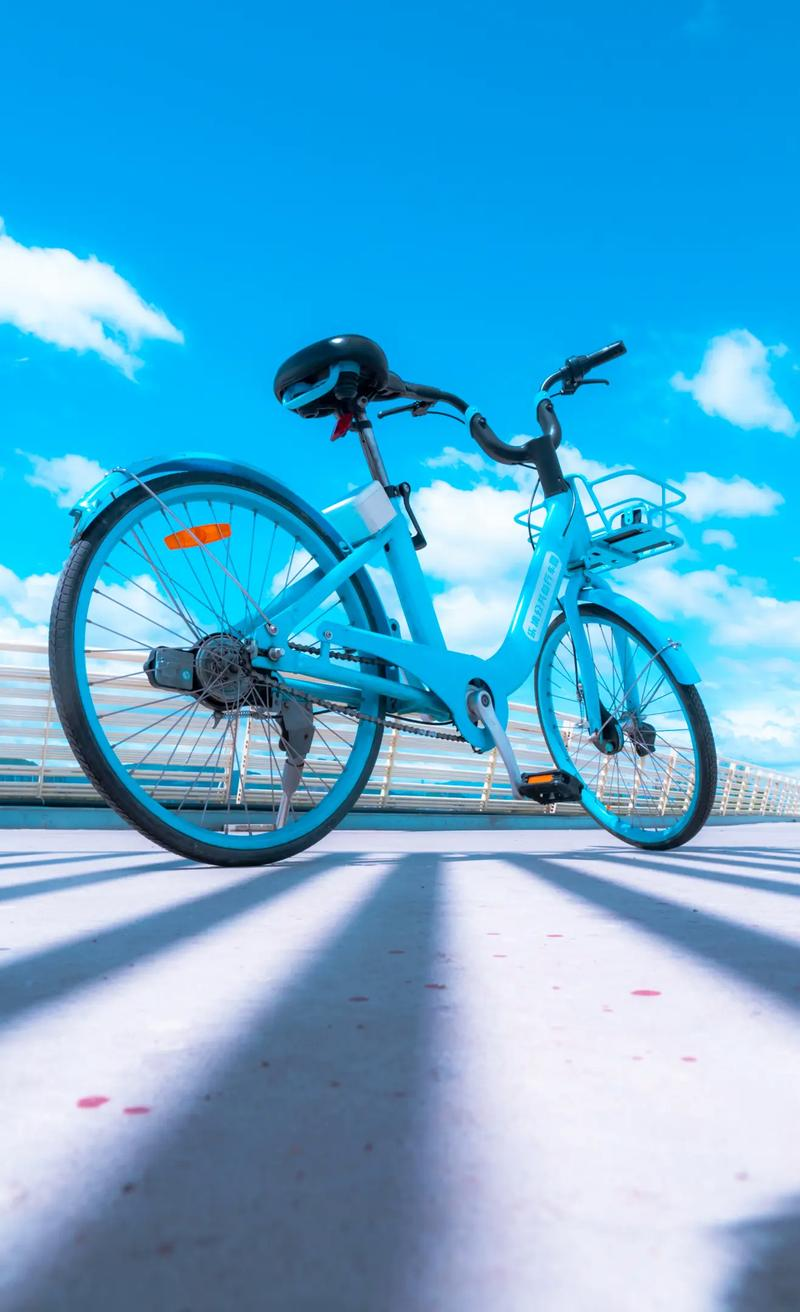单车: (27, 292, 754, 892)
